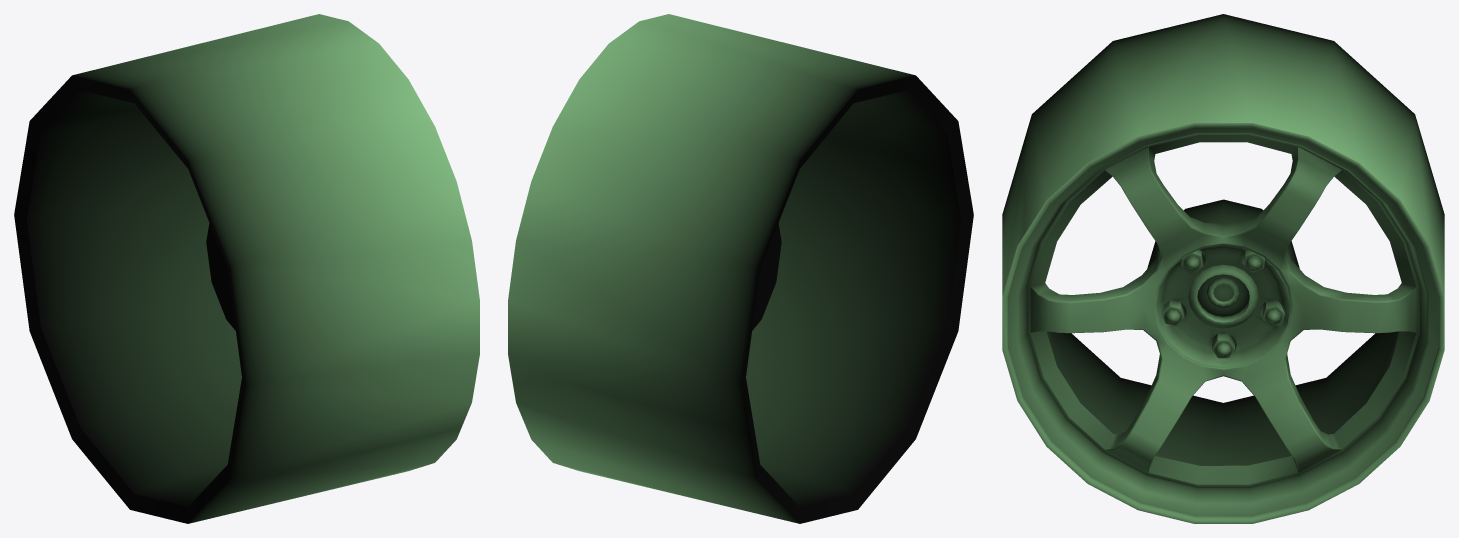
Rendered from AdamLZ_E36_Alloy.fbx.
3 renders of one model, left to right at view 1: azimuth 30°, elevation 25°; view 2: azimuth 150°, elevation 25°; view 3: azimuth 270°, elevation 25°, orthographic. The views are drawn at different scales.
Visible parts, largest first — view 1: AdamLZ_E36_Wheel; view 2: AdamLZ_E36_Wheel; view 3: AdamLZ_E36_Wheel.
Boxes of the visible parts, <box> form: AdamLZ_E36_Wheel: <box>14,14,479,523</box>; AdamLZ_E36_Wheel: <box>508,14,973,523</box>; AdamLZ_E36_Wheel: <box>1002,14,1444,523</box>.
Bounding box in the file's own units: 28.28 × 48.33 × 48.33.
